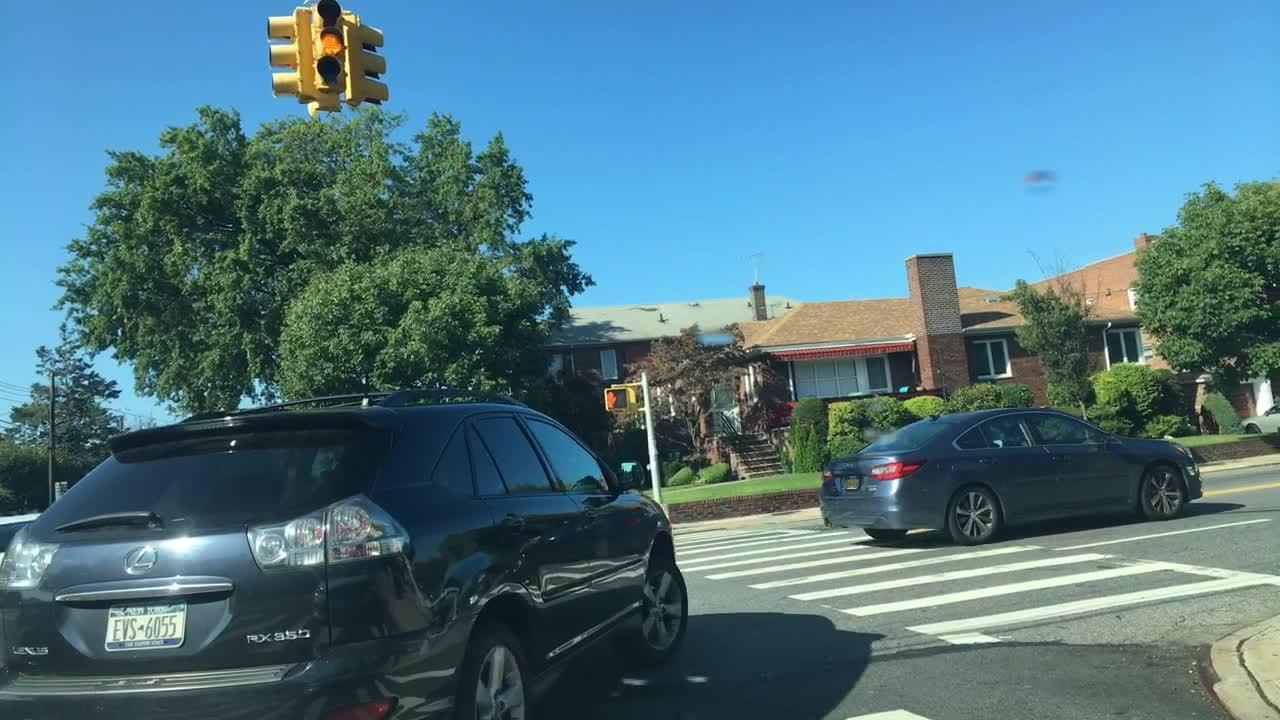lexus: (117, 537, 165, 581)
